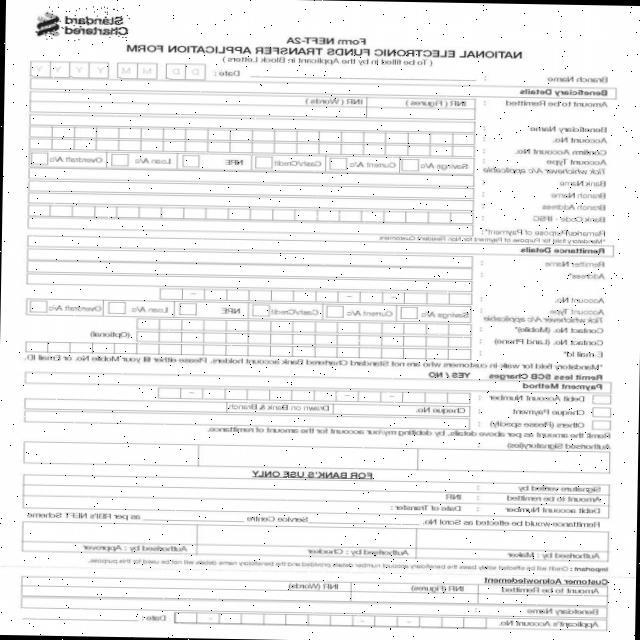Standard Chartered: (35, 5, 130, 42)
